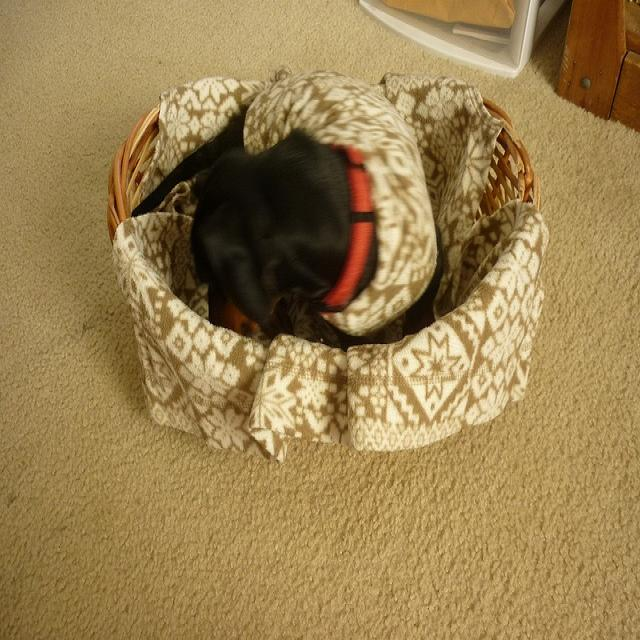dog: (187, 77, 438, 343)
